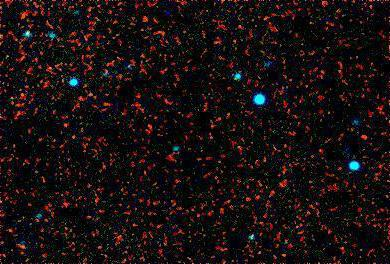star: (351, 122, 381, 152)
